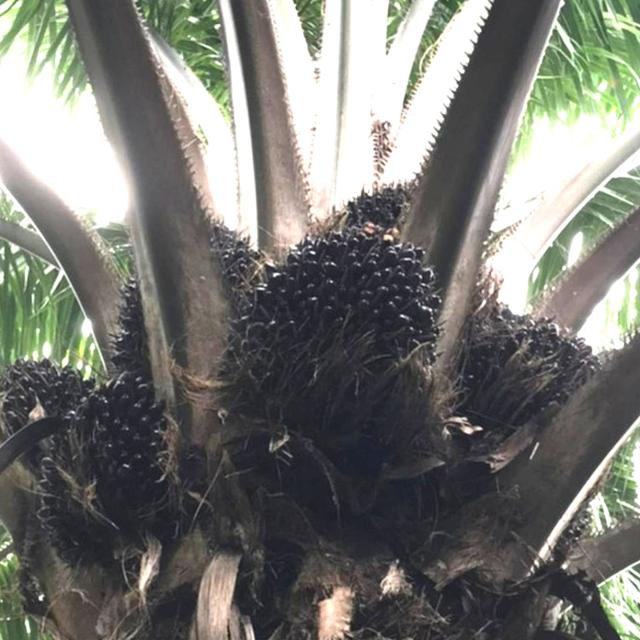ripe: (235, 220, 453, 404), (106, 206, 264, 386), (458, 298, 601, 434), (72, 374, 184, 519), (8, 349, 85, 444)
